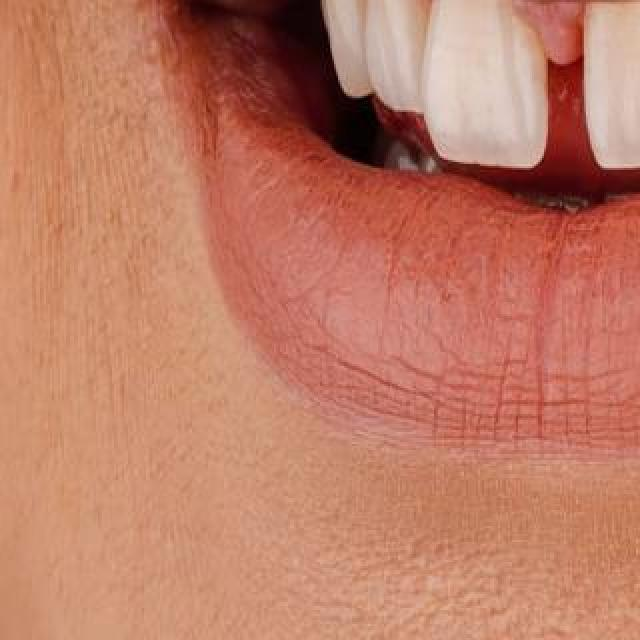spacing: (508, 8, 606, 174)
